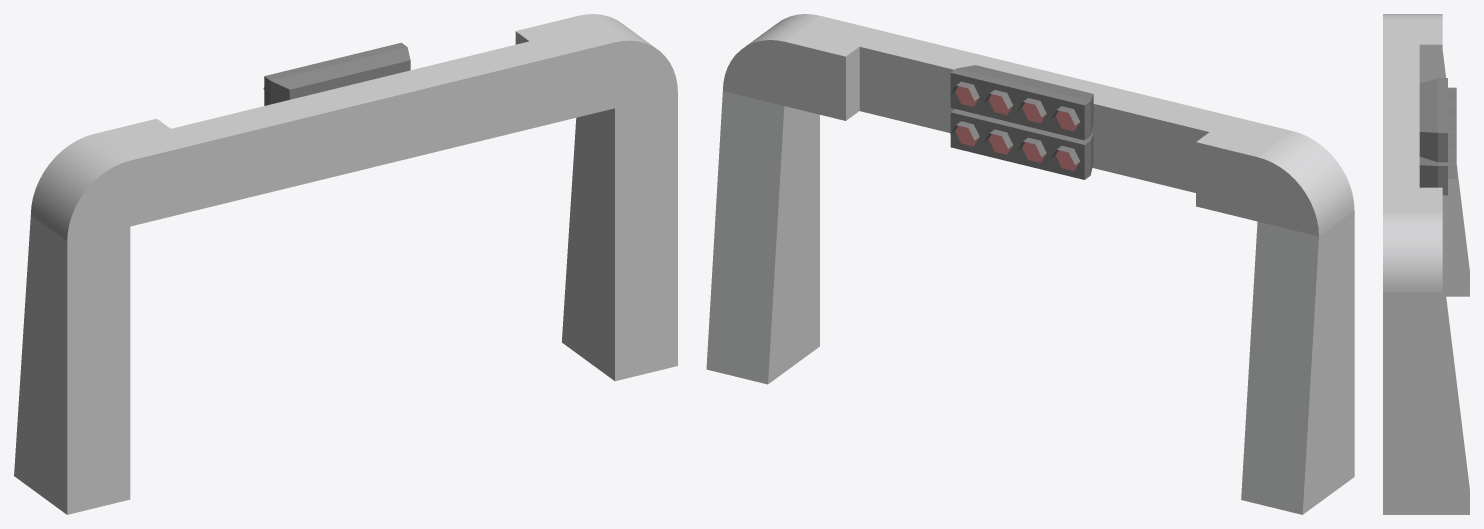
The model's file is overheadLights.gltf.
3 views of the same model, side by side, from view 1: azimuth 30°, elevation 25°; view 2: azimuth 150°, elevation 25°; view 3: azimuth 270°, elevation 25° (orthographic). The views are drawn at different scales.
Parts seen in each view (by area): view 1: overheadLights; view 2: overheadLights; view 3: overheadLights.
Boxes of the visible parts, box(x1,y1,x2,y2) form: overheadLights: box(14, 14, 677, 514); overheadLights: box(706, 14, 1354, 514); overheadLights: box(1383, 14, 1469, 514).
Bounding box in the file's own units: 12.6 × 6.94 × 1.9.
